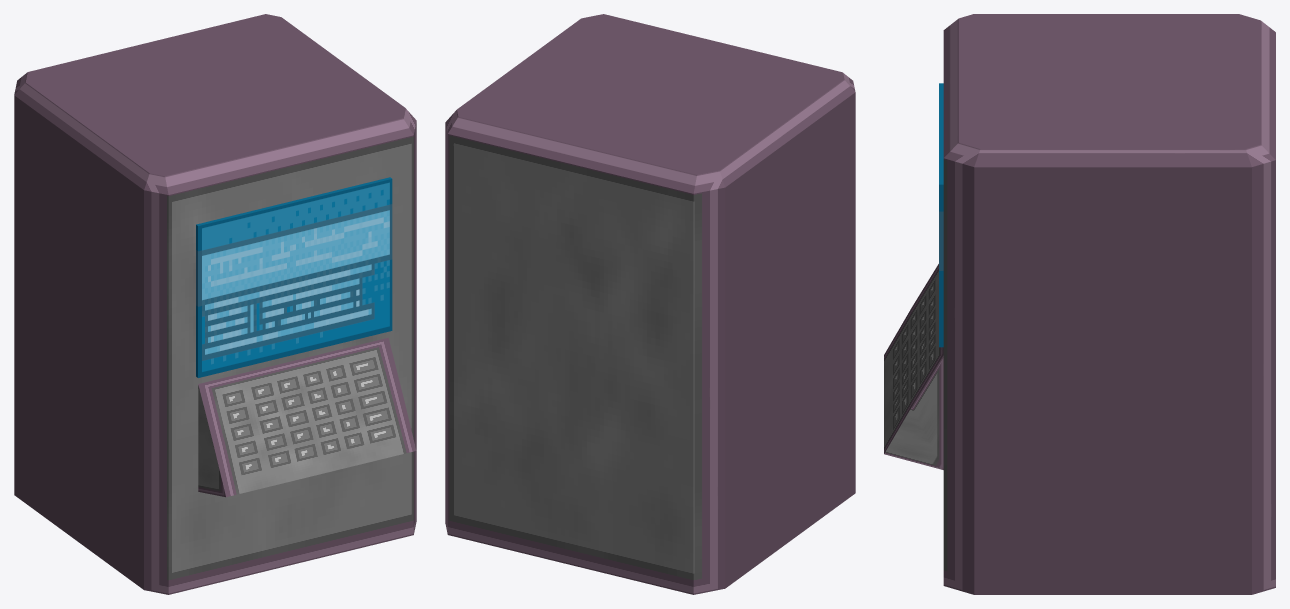
The model's file is Computer Terminal.glb.
3 renders of one model, left to right at view 1: azimuth 30°, elevation 25°; view 2: azimuth 150°, elevation 25°; view 3: azimuth 270°, elevation 25°, orthographic. The views are drawn at different scales.
Parts seen in each view (by area): view 1: Cube.004; view 2: Cube.004; view 3: Cube.004.
Boxes of the visible parts, x1,y1,x2,y2 form: Cube.004: (14, 14, 416, 594); Cube.004: (445, 14, 855, 594); Cube.004: (884, 14, 1275, 594).
Size of the model in its own units: 2.84 by 4.06 by 3.27.
Materials: 3 (3 with a texture image).
